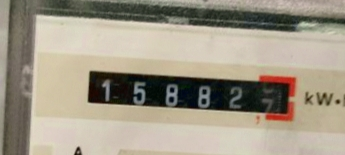1: (99, 73, 114, 103)
2: (226, 83, 244, 110)
5: (130, 77, 149, 108)
7: (259, 94, 273, 112)
8: (162, 79, 180, 108), (195, 81, 213, 110)
screen: (74, 52, 304, 129)
